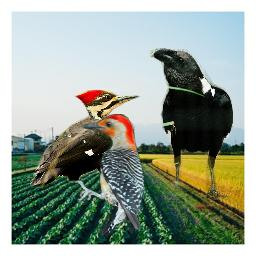Crow: (149, 48, 233, 200)
Woodpecker: (30, 90, 141, 187), (75, 114, 147, 237)
